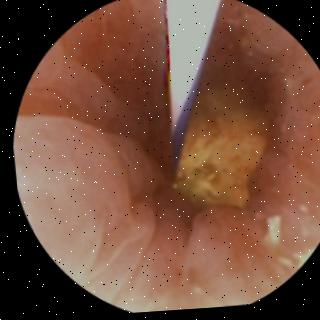stone: (172, 91, 262, 209)
tissue: (11, 0, 320, 313)
